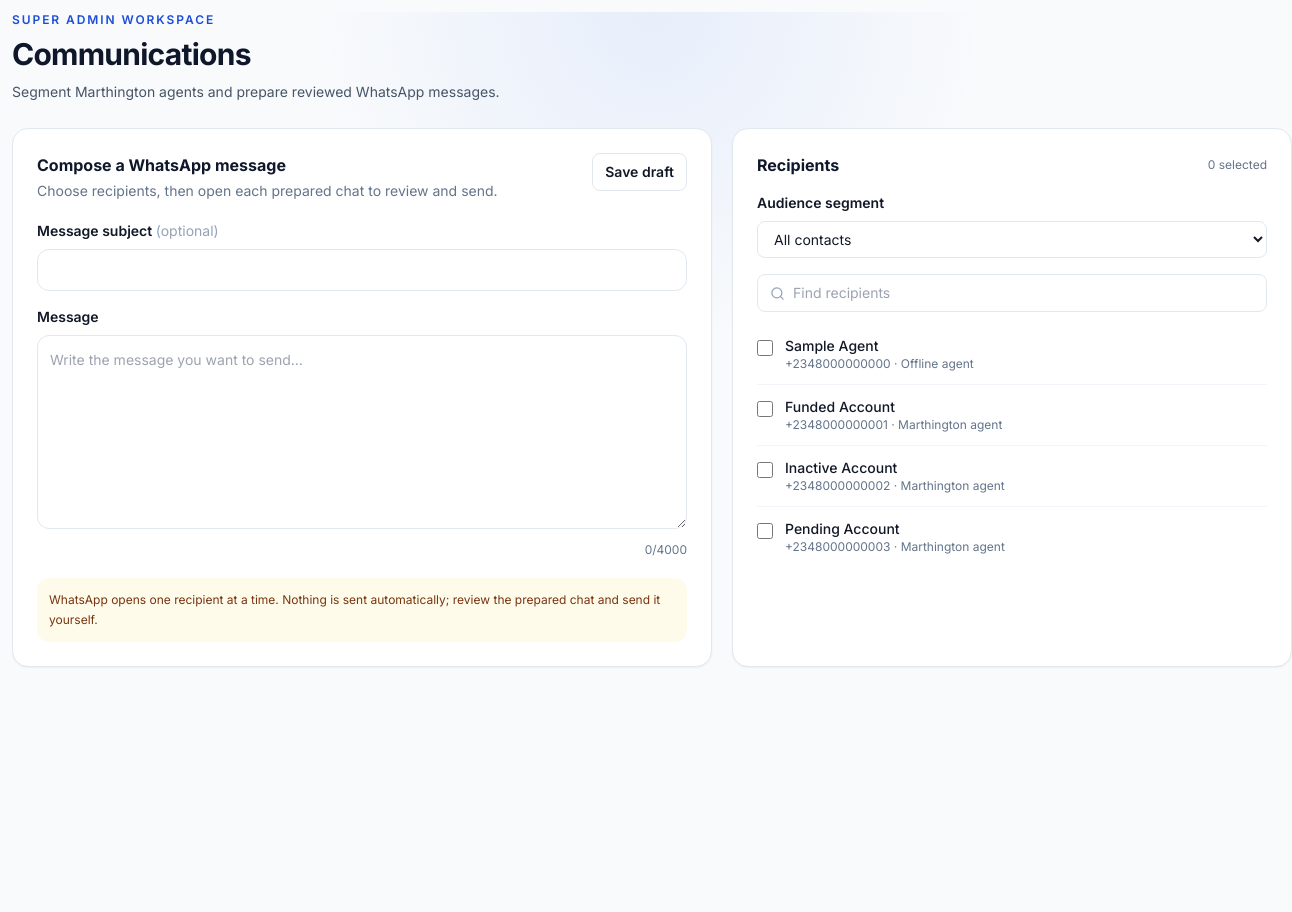
Scenario: AgentManagement › lists all registered accounts and filters communication recipients by audience
The width and height of the screenshot is (1292, 912).
Expected: the text "Pending Account" is shown, [785,520,900,537]
Select "Accounts with wallet funds" in the dropdown labelled "Audience segment": (1012, 240) [757,221,1267,258]
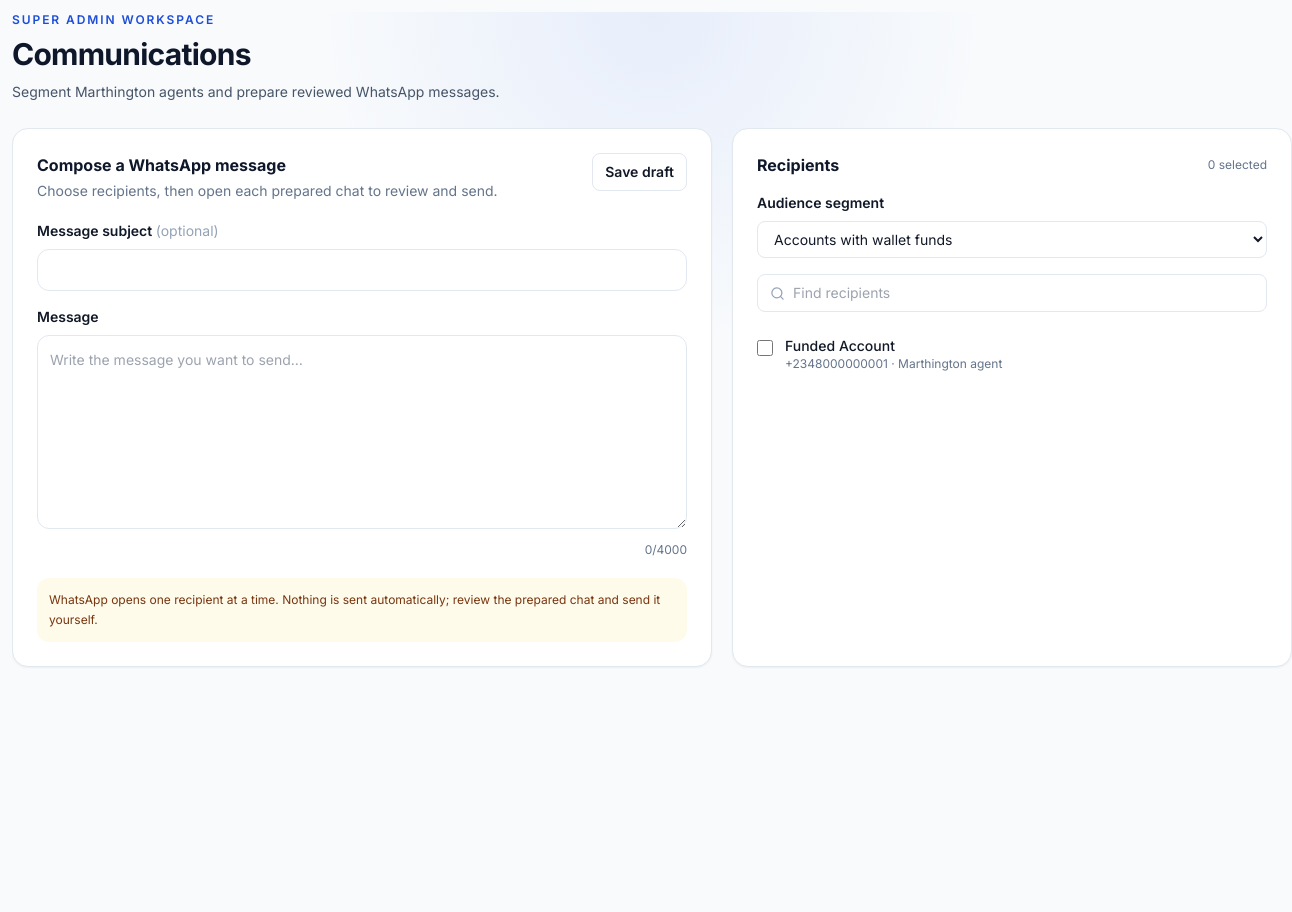
Expected: the text "Funded Account" is shown, [785,337,895,354]
Expected: the text "Inactive Account" is gone
Expected: the text "Pending Account" is gone
